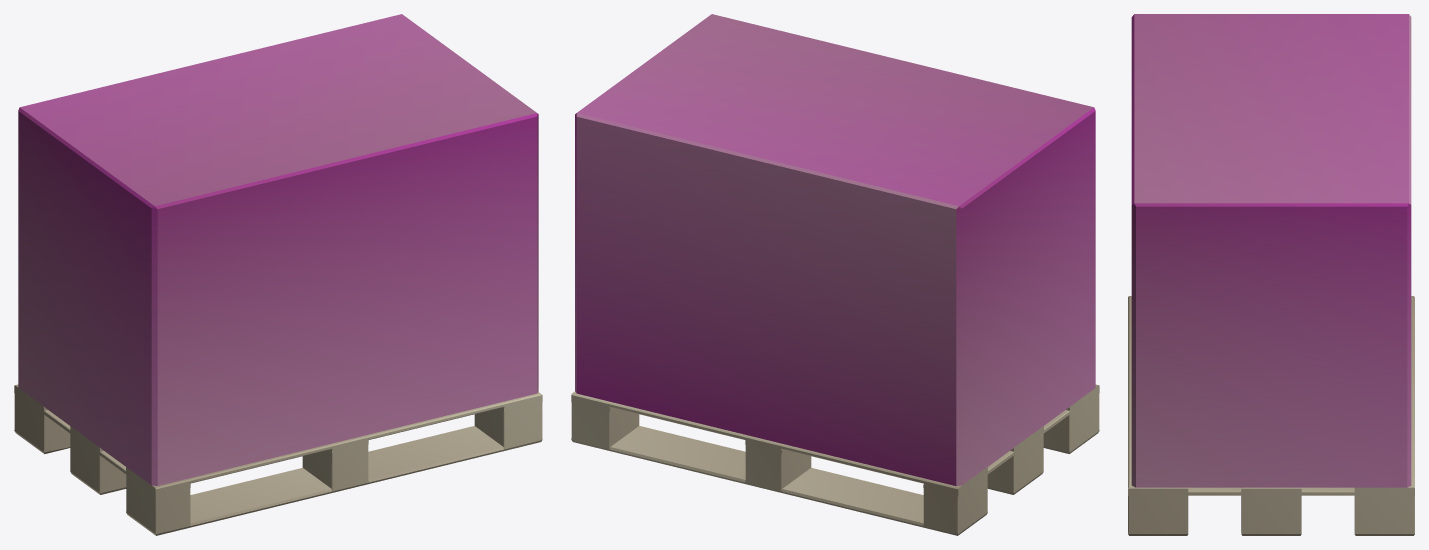
File: StonePallet.fbx
3 renders of one model, left to right at view 1: azimuth 30°, elevation 25°; view 2: azimuth 150°, elevation 25°; view 3: azimuth 270°, elevation 25°, orthographic.
Visible parts, largest first — view 1: Stone_Pallet; view 2: Stone_Pallet; view 3: Stone_Pallet.
Boxes of the visible parts, left/top/right/bottom form: Stone_Pallet: left=14, top=14, right=542, bottom=535; Stone_Pallet: left=571, top=14, right=1099, bottom=535; Stone_Pallet: left=1128, top=14, right=1414, bottom=535.
Size of the model in its own units: 1.2 by 0.9706 by 0.76.
